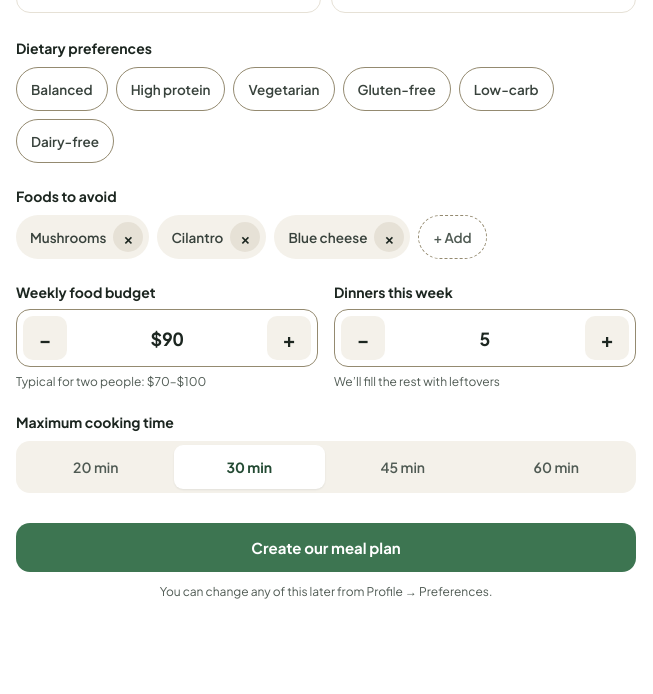
PlanSetupForm › shows an accessible validation error when no diet is selected
The image size is (653, 694).
(page scrolled)
Click the button "Create our meal plan" at {"x": 326, "y": 547}, box [16,522,636,572]
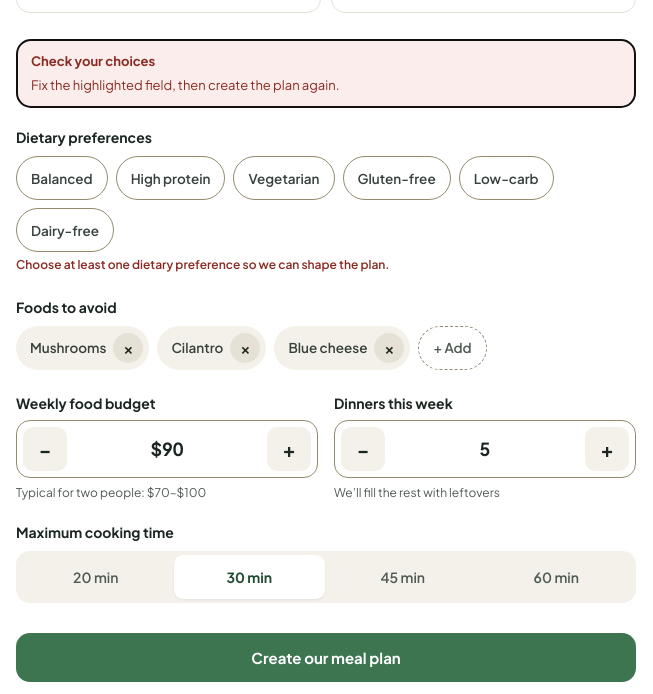
Expected: the text "Check your choices" is shown, [31,53,155,69]
Expected: the text "Choose at least one dietary preference so we can shape the plan." is shown, [16,257,390,272]
